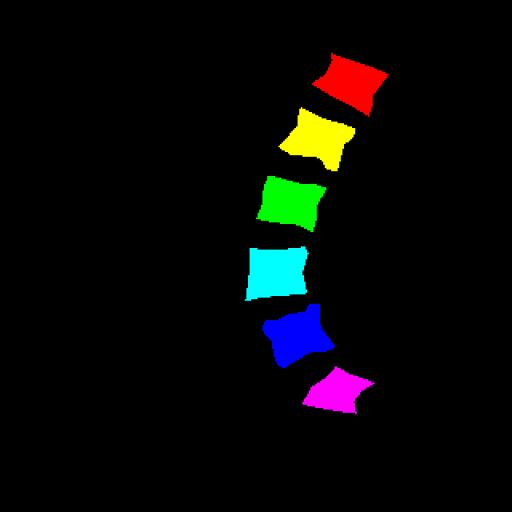L1: (313, 53, 388, 116)
L2: (279, 108, 355, 171)
L3: (257, 176, 326, 232)
L4: (246, 246, 308, 300)
L5: (263, 304, 334, 368)
S1: (302, 367, 374, 414)
